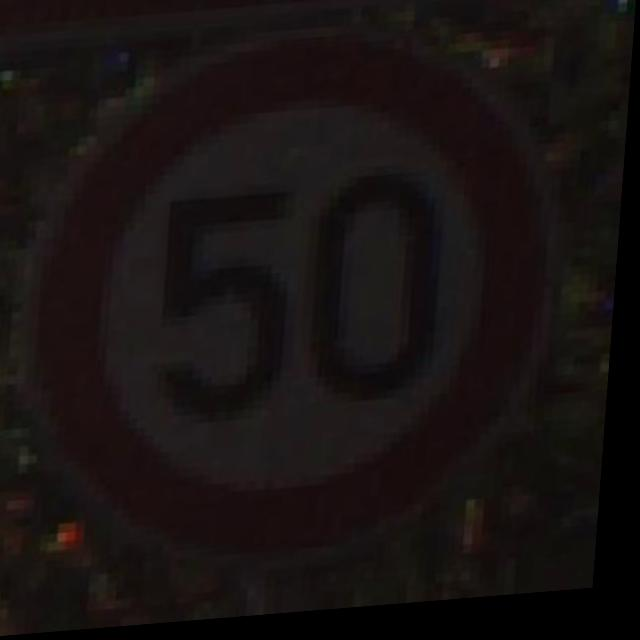Speed limit 50: (22, 21, 577, 577)
